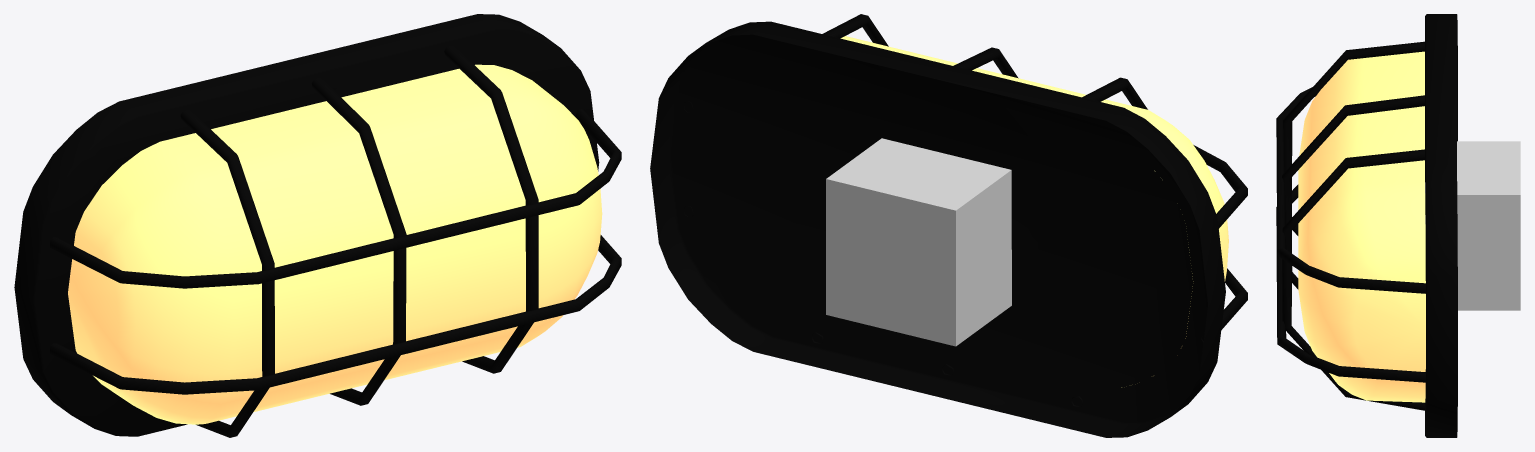
The model's file is BunkerLight.fbx.
3 renders of one model, left to right at view 1: azimuth 30°, elevation 25°; view 2: azimuth 150°, elevation 25°; view 3: azimuth 270°, elevation 25°, orthographic. The views are drawn at different scales.
Parts seen in each view (by area): view 1: Bunker; view 2: Bunker, Cube; view 3: Bunker, Cube.
Boxes of the visible parts, x1,y1,x2,y2 form: Bunker: [14, 14, 621, 437]; Bunker: [650, 14, 1247, 437]; Cube: [826, 138, 1011, 346]; Bunker: [1276, 14, 1457, 437]; Cube: [1425, 141, 1520, 310].
Bounding box in the file's own units: 859 × 467 × 383.
